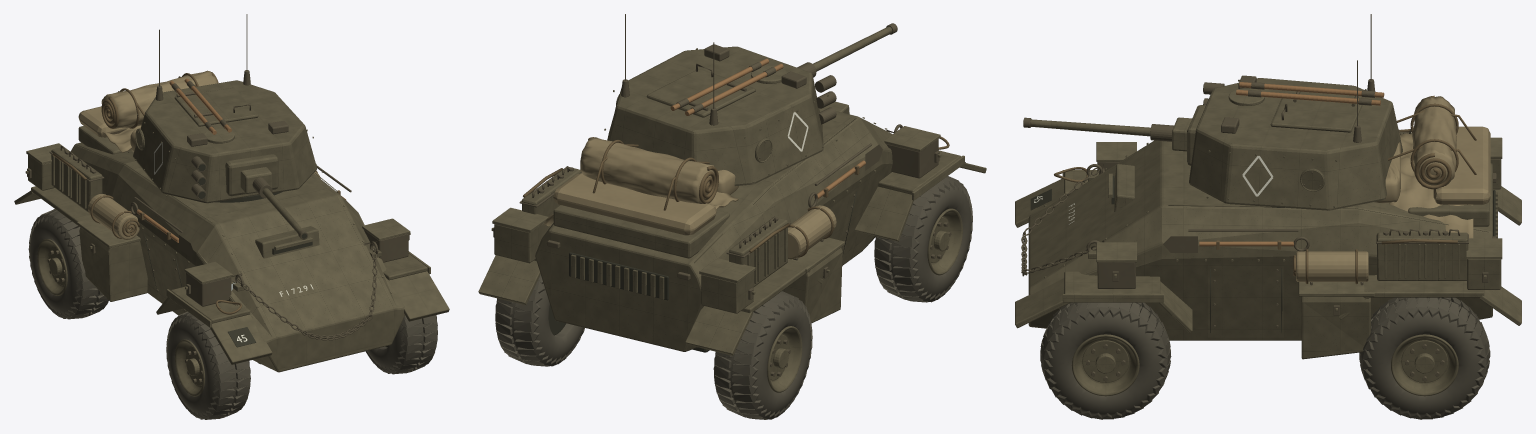
File: reference-armored-car.glb
The picture shows the model from 3 angles, left to right: view 1: azimuth 30°, elevation 25°; view 2: azimuth 150°, elevation 25°; view 3: azimuth 270°, elevation 25°; orthographic projection. The views are drawn at different scales.
Parts seen in each view (by area): view 1: hull--armor-surface-0, turret-pivot--armor-surface-0, front-fenders--armor-surface-0, wheel-left-front--rubber-surface-0, rear-stowage--canvas-surface-0, wheel-left-rear--rubber-surface-0, side-boxes--armor-surface-0, wheel-right-front--rubber-surface-0, hull--armor-edge-surface-0, front-fenders--armor-edge-surface-0, front-fenders--steel-surface-0, hatch--armor-surface-0 (+16 smaller); view 2: hull--armor-surface-0, turret-pivot--armor-surface-0, rear-stowage--canvas-surface-0, wheel-left-rear--rubber-surface-0, wheel-left-front--rubber-surface-0, rear-fenders--armor-surface-0, wheel-right-rear--rubber-surface-0, front-fenders--armor-surface-0, rear-boxes--armor-surface-0, rear-stowage--armor-surface-0, side-boxes--armor-surface-0, hatch--armor-surface-0 (+17 smaller); view 3: hull--armor-surface-0, turret-pivot--armor-surface-0, rear-stowage--canvas-surface-0, wheel-right-rear--rubber-surface-0, wheel-right-front--rubber-surface-0, hull--armor-edge-surface-0, front-fenders--armor-surface-0, side-boxes--armor-surface-0, rear-stowage--armor-surface-0, rear-fenders--armor-surface-0, wheel-right-rear--armor-surface-0, wheel-right-front--armor-surface-0 (+15 smaller).
Part boxes in pixels (box(x1,y1,x2,y2)): hull--armor-surface-0: box(70, 126, 404, 372); turret-pivot--armor-surface-0: box(133, 80, 316, 203); front-fenders--armor-surface-0: box(156, 254, 449, 364); wheel-left-front--rubber-surface-0: box(166, 311, 250, 419); rear-stowage--canvas-surface-0: box(78, 70, 320, 239); wheel-left-rear--rubber-surface-0: box(28, 209, 108, 319); side-boxes--armor-surface-0: box(79, 228, 147, 301); wheel-right-front--rubber-surface-0: box(365, 315, 437, 374); hull--armor-edge-surface-0: box(75, 144, 337, 314); front-fenders--armor-edge-surface-0: box(166, 218, 430, 327); front-fenders--steel-surface-0: box(186, 230, 408, 306); hatch--armor-surface-0: box(174, 87, 258, 126); hull--armor-surface-0: box(535, 101, 892, 351); turret-pivot--armor-surface-0: box(607, 46, 823, 186); rear-stowage--canvas-surface-0: box(544, 137, 836, 259); wheel-left-rear--rubber-surface-0: box(713, 291, 812, 419); wheel-left-front--rubber-surface-0: box(874, 176, 972, 302); rear-fenders--armor-surface-0: box(478, 255, 823, 355); wheel-right-rear--rubber-surface-0: box(495, 274, 584, 366); front-fenders--armor-surface-0: box(854, 150, 986, 241); rear-boxes--armor-surface-0: box(494, 223, 753, 313); rear-stowage--armor-surface-0: box(522, 166, 787, 286); side-boxes--armor-surface-0: box(782, 247, 842, 323); hatch--armor-surface-0: box(646, 69, 755, 117); hull--armor-surface-0: box(1028, 140, 1497, 340); turret-pivot--armor-surface-0: box(1189, 78, 1402, 210); rear-stowage--canvas-surface-0: box(1296, 96, 1490, 281); wheel-right-rear--rubber-surface-0: box(1359, 297, 1490, 419); wheel-right-front--rubber-surface-0: box(1040, 302, 1171, 419); hull--armor-edge-surface-0: box(1108, 173, 1488, 337); front-fenders--armor-surface-0: box(1015, 171, 1192, 332); side-boxes--armor-surface-0: box(1301, 296, 1370, 359); rear-stowage--armor-surface-0: box(1377, 132, 1468, 280); rear-fenders--armor-surface-0: box(1339, 186, 1521, 325); wheel-right-rear--armor-surface-0: box(1391, 334, 1458, 396); wheel-right-front--armor-surface-0: box(1071, 334, 1139, 396).
Size of the model in its own units: 2.76 by 3.32 by 4.61.
10 materials, 9 textured.
